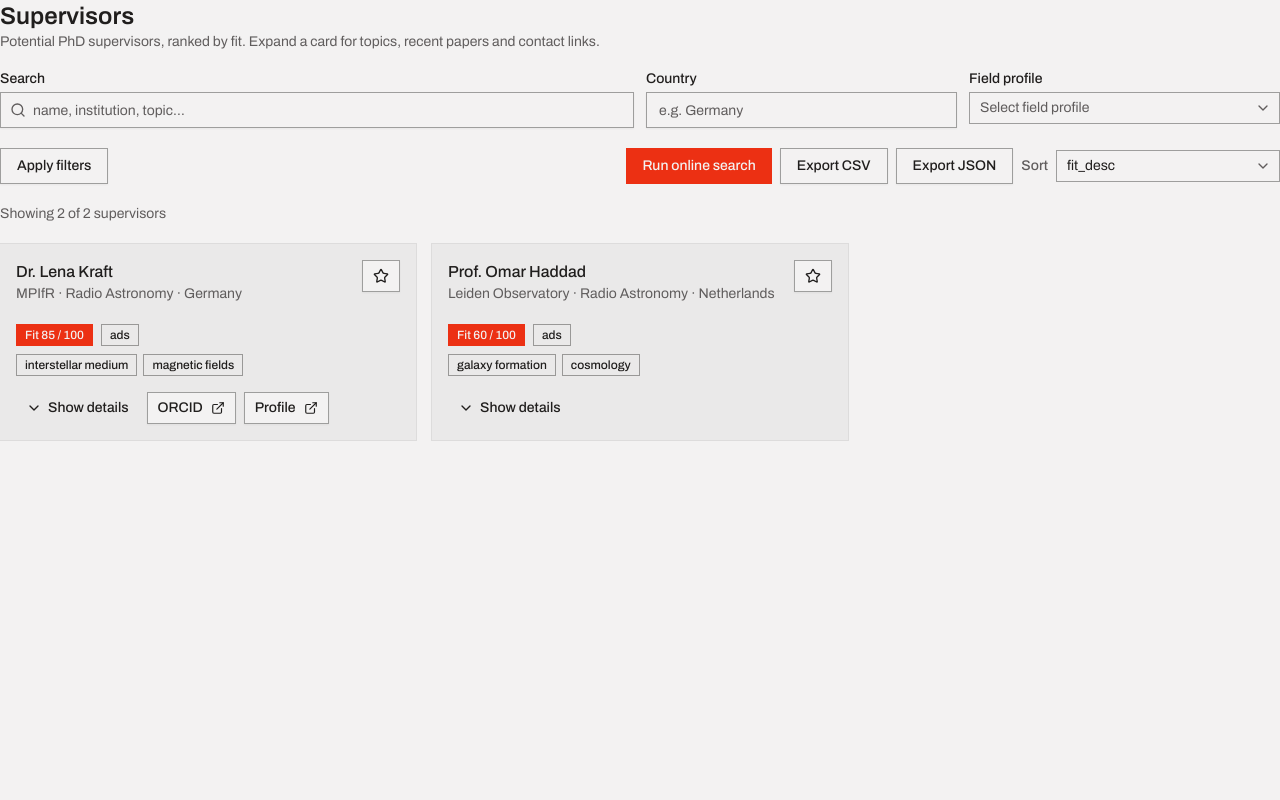
Scenario: SupervisorsPage › keeps the online search start button disabled until a country is entered
Check: the text "Dr. Lena Kraft" is shown, box [16, 263, 113, 280]
Step 1. Click the button "Run online search" → (699, 166), box [626, 148, 772, 184]
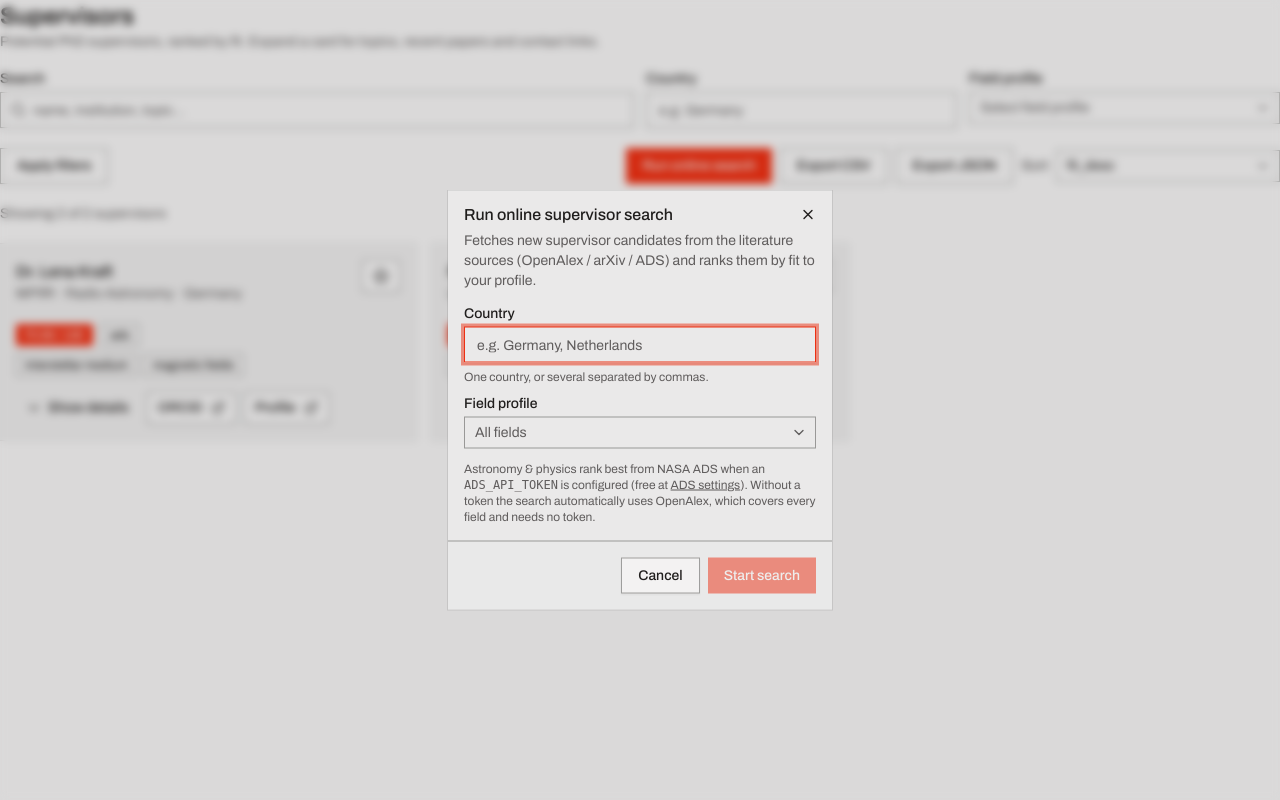
Check: the button "Start search" is disabled, box [708, 558, 816, 594]
Step 2. Type "Germany" into the field labelled "Country" → (640, 344), box [464, 326, 816, 362]
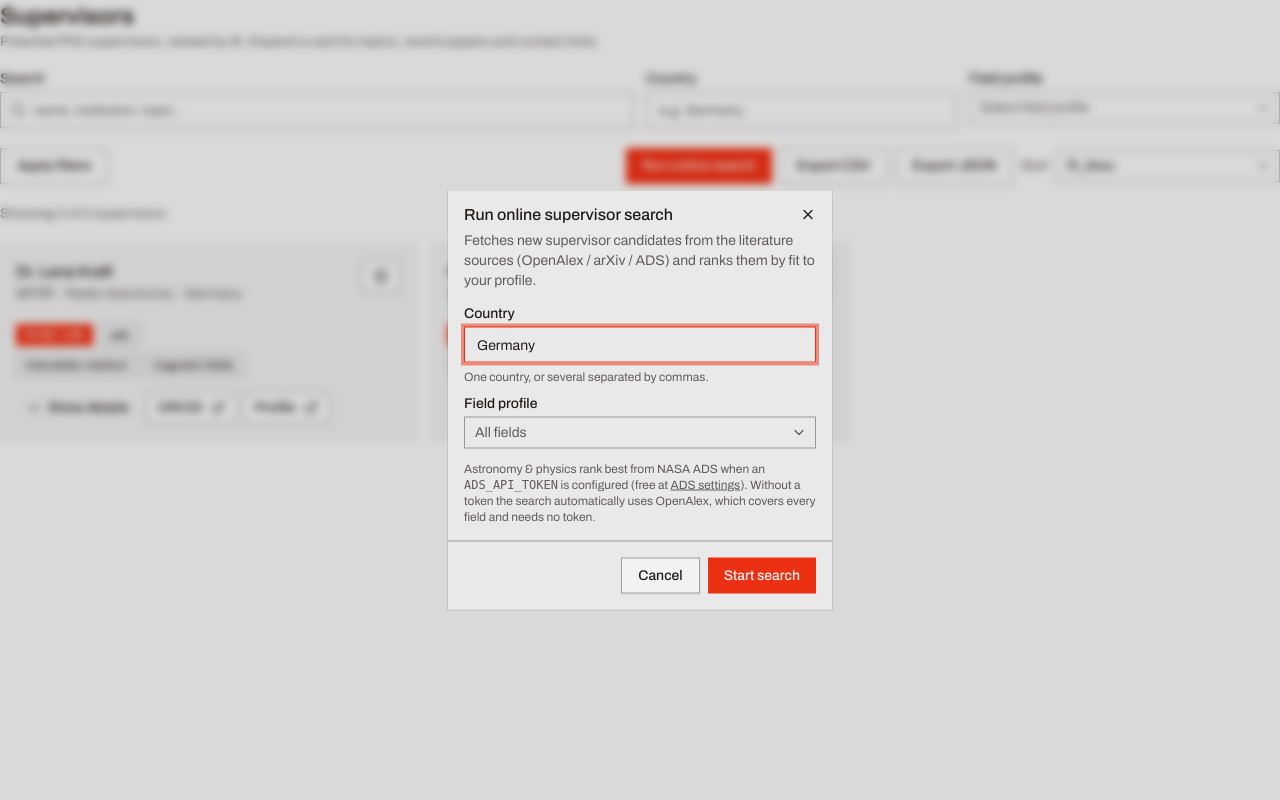
Check: the button "Start search" is enabled, box [708, 558, 816, 594]
